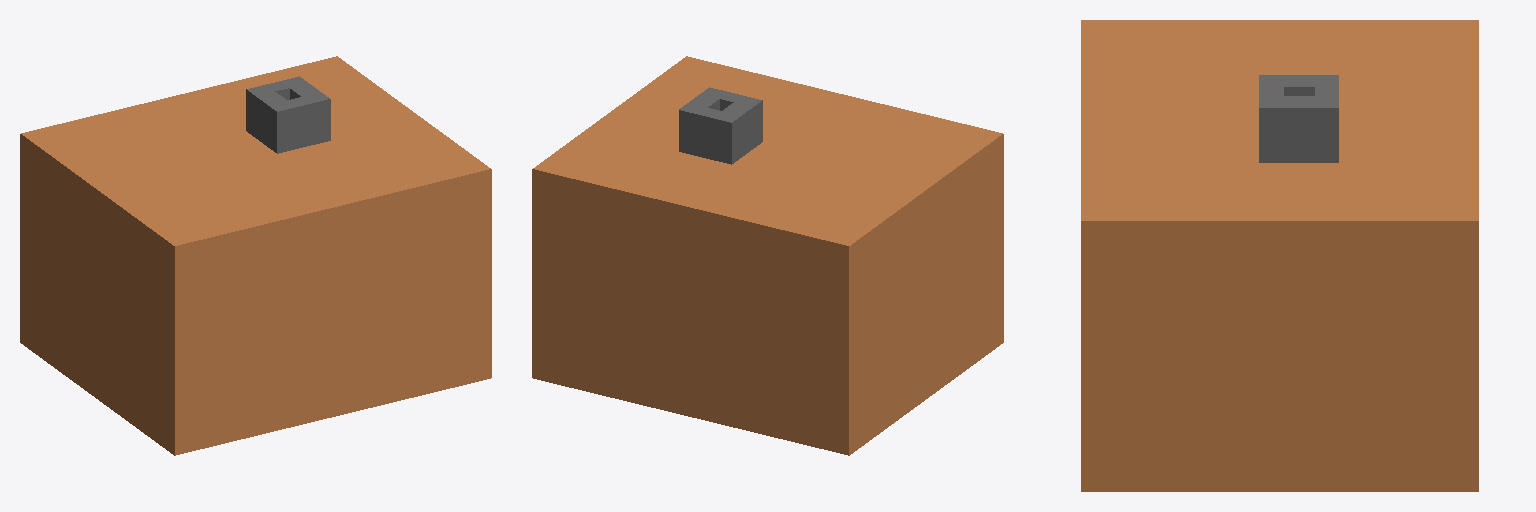
URDF robot description (peg_in_hole_scene_0033_tol05):
<?xml version="1.0"?>
<robot name="peg_in_hole_scene_0033_tol05">
  <material name="wood"><color rgba="0.82 0.56 0.35 1.0"/></material>
  <material name="hole_grey"><color rgba="0.4706 0.4706 0.4706 1.0"/></material>
  <link name="box">
    <visual>
      <origin xyz="0.000000 0.000000 0.000000" rpy="0 0 0"/>
      <geometry><box size="0.475000 0.400000 0.300000"/></geometry>
      <material name="wood"/>
    </visual>
    <collision>
      <origin xyz="0.000000 0.000000 0.000000" rpy="0 0 0"/>
      <geometry><box size="0.475000 0.400000 0.300000"/></geometry>
    </collision>
    <visual>
      <origin xyz="0.059818 0.019354 0.155000" rpy="0 0 0"/>
      <geometry><box size="0.080000 0.080000 0.010000"/></geometry>
      <material name="hole_grey"/>
    </visual>
    <collision>
      <origin xyz="0.059818 0.019354 0.155000" rpy="0 0 0"/>
      <geometry><box size="0.080000 0.080000 0.010000"/></geometry>
    </collision>
    <visual>
      <origin xyz="0.085118 0.019354 0.185000" rpy="0 0 0"/>
      <geometry><box size="0.029400 0.080000 0.050000"/></geometry>
      <material name="hole_grey"/>
    </visual>
    <collision>
      <origin xyz="0.085118 0.019354 0.185000" rpy="0 0 0"/>
      <geometry><box size="0.029400 0.080000 0.050000"/></geometry>
    </collision>
    <visual>
      <origin xyz="0.034519 0.019354 0.185000" rpy="0 0 0"/>
      <geometry><box size="0.029400 0.080000 0.050000"/></geometry>
      <material name="hole_grey"/>
    </visual>
    <collision>
      <origin xyz="0.034519 0.019354 0.185000" rpy="0 0 0"/>
      <geometry><box size="0.029400 0.080000 0.050000"/></geometry>
    </collision>
    <visual>
      <origin xyz="0.059818 0.047154 0.185000" rpy="0 0 0"/>
      <geometry><box size="0.021199 0.024400 0.050000"/></geometry>
      <material name="hole_grey"/>
    </visual>
    <collision>
      <origin xyz="0.059818 0.047154 0.185000" rpy="0 0 0"/>
      <geometry><box size="0.021199 0.024400 0.050000"/></geometry>
    </collision>
    <visual>
      <origin xyz="0.059818 -0.008446 0.185000" rpy="0 0 0"/>
      <geometry><box size="0.021199 0.024400 0.050000"/></geometry>
      <material name="hole_grey"/>
    </visual>
    <collision>
      <origin xyz="0.059818 -0.008446 0.185000" rpy="0 0 0"/>
      <geometry><box size="0.021199 0.024400 0.050000"/></geometry>
    </collision>
    <inertial>
      <mass value="500"/>
      <friction value="1.0"/>
      <inertia ixx="1000.0" ixy="0.0" ixz="0.0" iyy="1000.0" iyz="0.0" izz="1000.0"/>
    </inertial>
  </link>
</robot>

--- What the picture shows (computed from the rendered views, not written in the file) ---
3 views of the same robot in one strip: view 1: azimuth 30°, elevation 25°; view 2: azimuth 150°, elevation 25°; view 3: azimuth 270°, elevation 25° (orthographic).
Model peg_in_hole_scene_0033_tol05 with 1 links and 0 joints (none), rooted at box, posed all joints at 0.
Links seen in each view (by area): view 1: box; view 2: box; view 3: box.
Link boxes in pixels (x1,y1,x2,y2): box: (20,56,491,455); box: (532,56,1003,455); box: (1081,20,1478,491).
Bounding box of the posed robot: 0.475 × 0.4 × 0.36 m (x, y, z).
Geometry: primitives only (box / cylinder / sphere), no mesh files.
